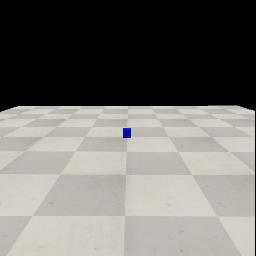box: (123, 128, 131, 138)
